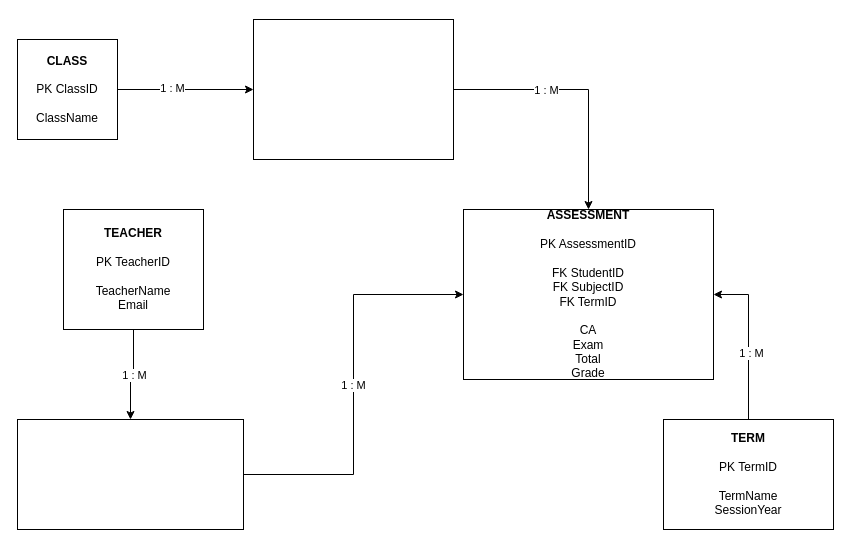
The diagram is 851 pixels wide and 547 high, and some of its shapes have lost their labels. The centre of each missing label's shape, as x and y in pixels:
"STUDENT PK StudentID FirstName LastName Gender DateOfBirth FK ClassID" belongs at (x=353, y=89).
"SUBJECT PK SubjectID SubjectName FK TeacherID" belongs at (x=130, y=474).
